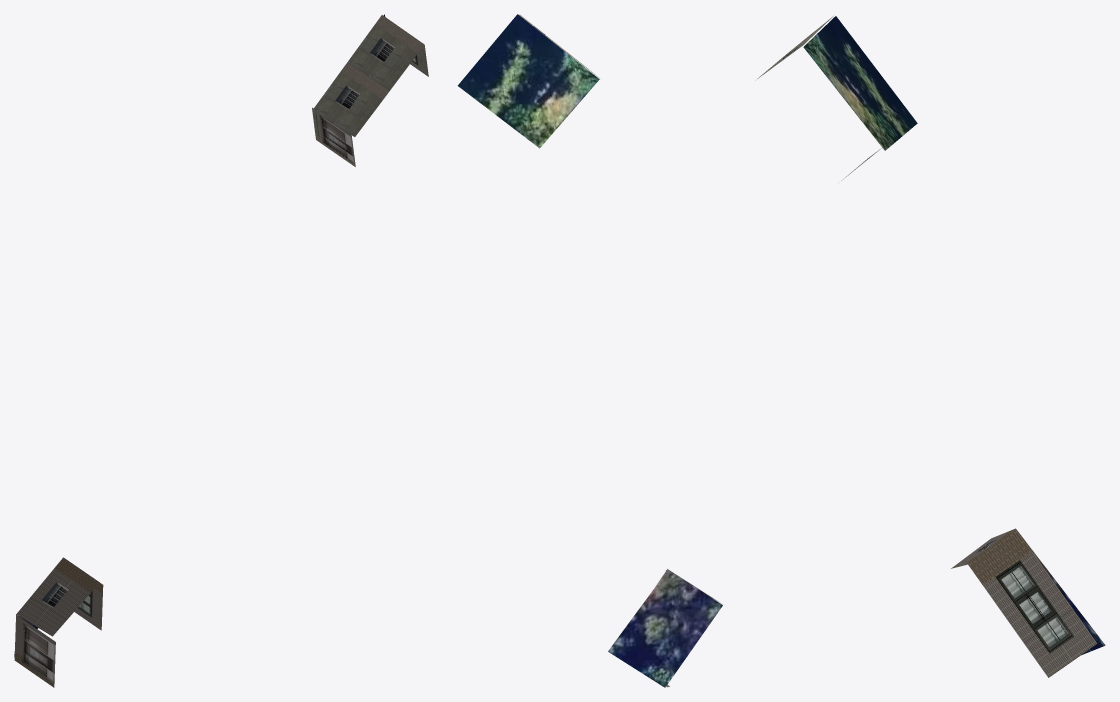
Rendered from tile_LOD4_r12_c13.glb.
The picture shows the model from 3 angles, left to right: view 1: azimuth 30°, elevation 25°; view 2: azimuth 150°, elevation 25°; view 3: azimuth 270°, elevation 25°; orthographic projection. The views are drawn at different scales.
Bounding box in the file's own units: 31.75 × 55.75 × 21.5.
8 materials, 8 textured.
